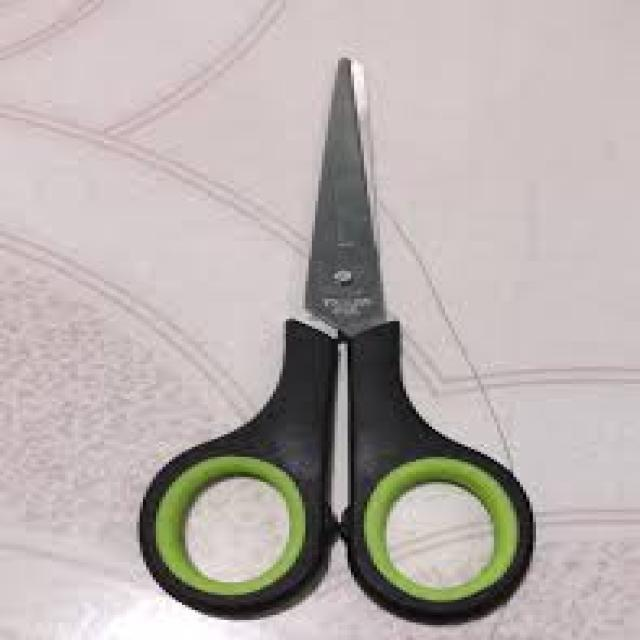Scissors: (118, 41, 555, 631)
